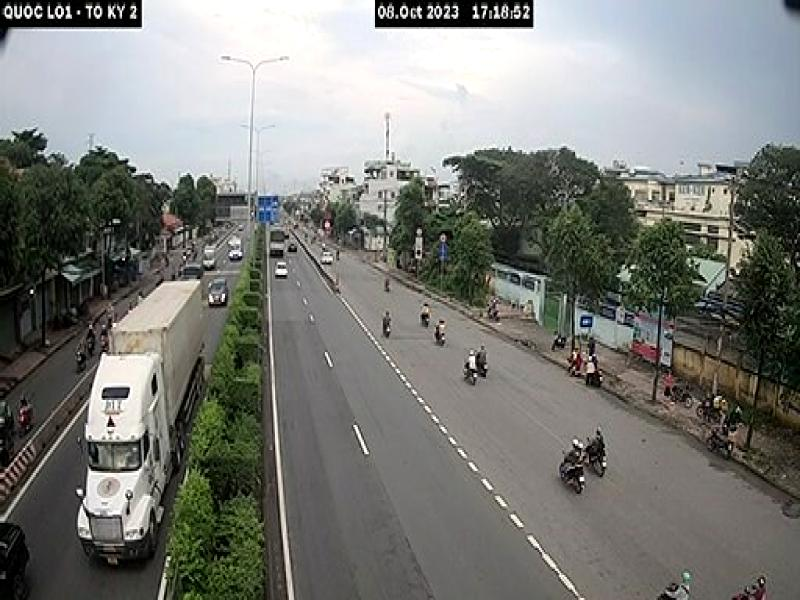truck: (58, 274, 210, 560)
